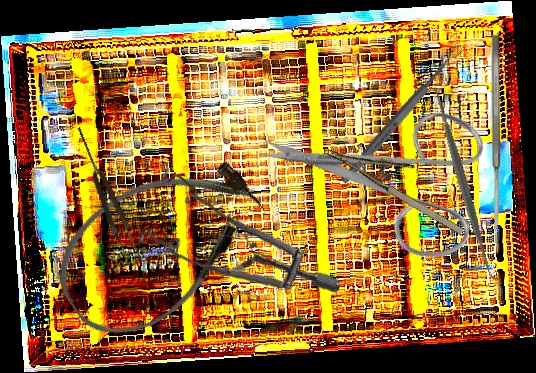Cannula: (35, 133, 284, 357)
Iris Scissors: (249, 52, 522, 312)
Needle Holder: (325, 121, 479, 240)
Spatula Surgical: (421, 76, 503, 287), (490, 35, 501, 228)
Speculum: (131, 155, 343, 308)
Surgical Spoon: (338, 43, 466, 186)
Tissue Forceps: (71, 123, 143, 267)
